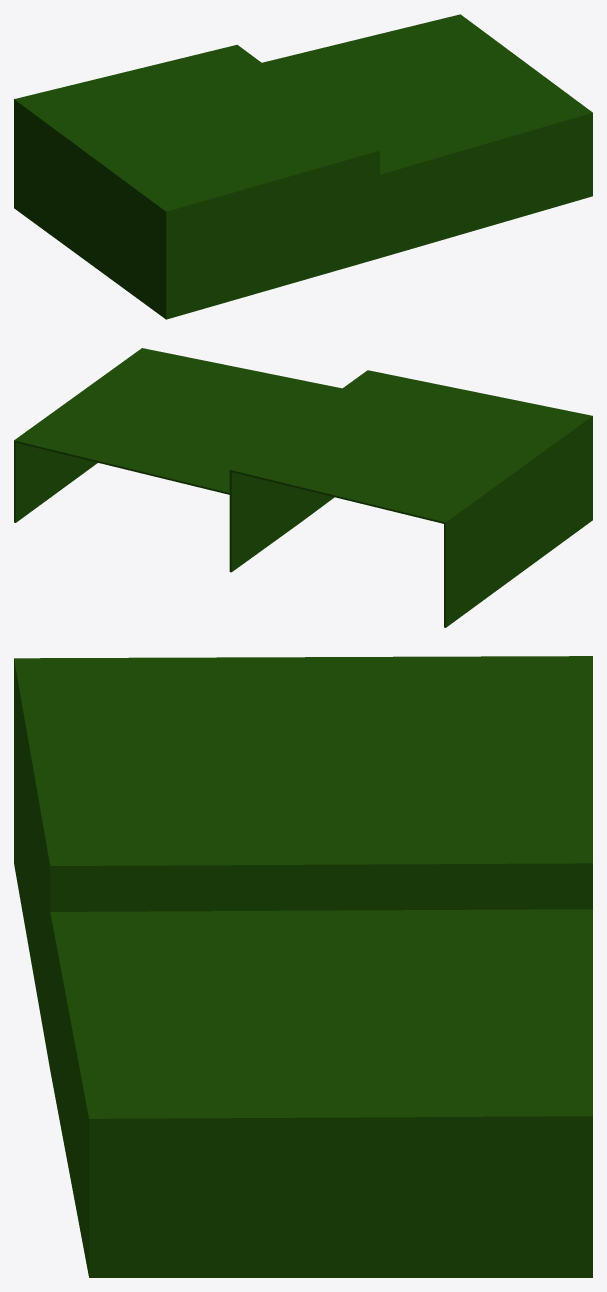
Rendered from Shed01.fbx.
3 renders of one model, top to bottom at view 1: azimuth 30°, elevation 25°; view 2: azimuth 150°, elevation 25°; view 3: azimuth 270°, elevation 25°, orthographic. The views are drawn at different scales.
Visible parts, largest first — view 1: Shed01; view 2: Shed01; view 3: Shed01.
Part boxes in pixels (x1,y1,x2,y2): Shed01: [14, 14, 592, 319]; Shed01: [14, 348, 592, 627]; Shed01: [14, 656, 592, 1277].
Size of the model in its own units: 8.38 by 1.95 by 4.95.
